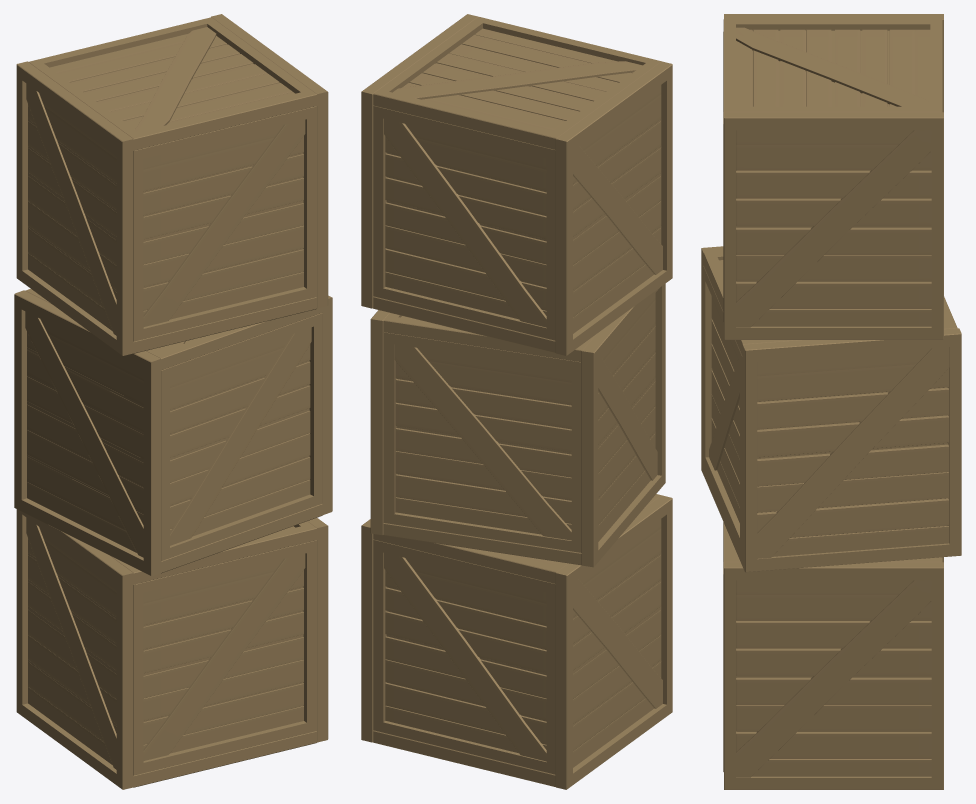
File: M_Torre cajas 3.fbx
The picture shows the model from 3 angles, left to right: view 1: azimuth 30°, elevation 25°; view 2: azimuth 150°, elevation 25°; view 3: azimuth 270°, elevation 25°; orthographic projection. The views are drawn at different scales.
Visible parts, largest first — view 1: CrateV8_group6_pPlane20; view 2: CrateV8_group6_pPlane20; view 3: CrateV8_group6_pPlane20.
Part boxes in pixels (x1,y1,x2,y2): CrateV8_group6_pPlane20: (14,14,332,789); CrateV8_group6_pPlane20: (361,14,672,789); CrateV8_group6_pPlane20: (701,14,961,789).
Bounding box in the file's own units: 8.23 × 21.7 × 7.6.
